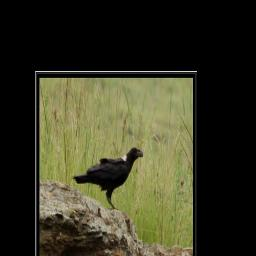Crow: (72, 147, 144, 210)
